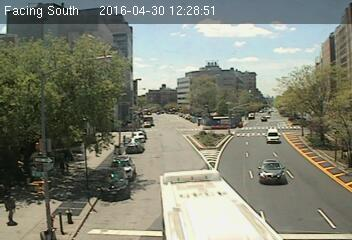neg: (308, 45, 333, 78), (183, 17, 205, 46), (76, 175, 95, 201), (289, 107, 307, 131), (54, 20, 72, 44), (192, 102, 210, 126), (333, 148, 350, 170), (117, 183, 133, 205), (147, 46, 163, 68), (271, 16, 287, 38), (123, 129, 139, 150), (150, 101, 166, 122), (227, 14, 243, 35), (56, 206, 69, 224), (160, 128, 173, 146), (268, 161, 281, 178), (266, 126, 278, 143), (178, 168, 190, 185), (242, 104, 254, 120), (116, 15, 127, 31), (138, 107, 149, 122), (262, 106, 273, 120), (201, 149, 211, 163), (113, 43, 123, 57), (110, 85, 119, 98), (243, 159, 252, 171), (111, 156, 120, 168), (175, 8, 181, 16)
